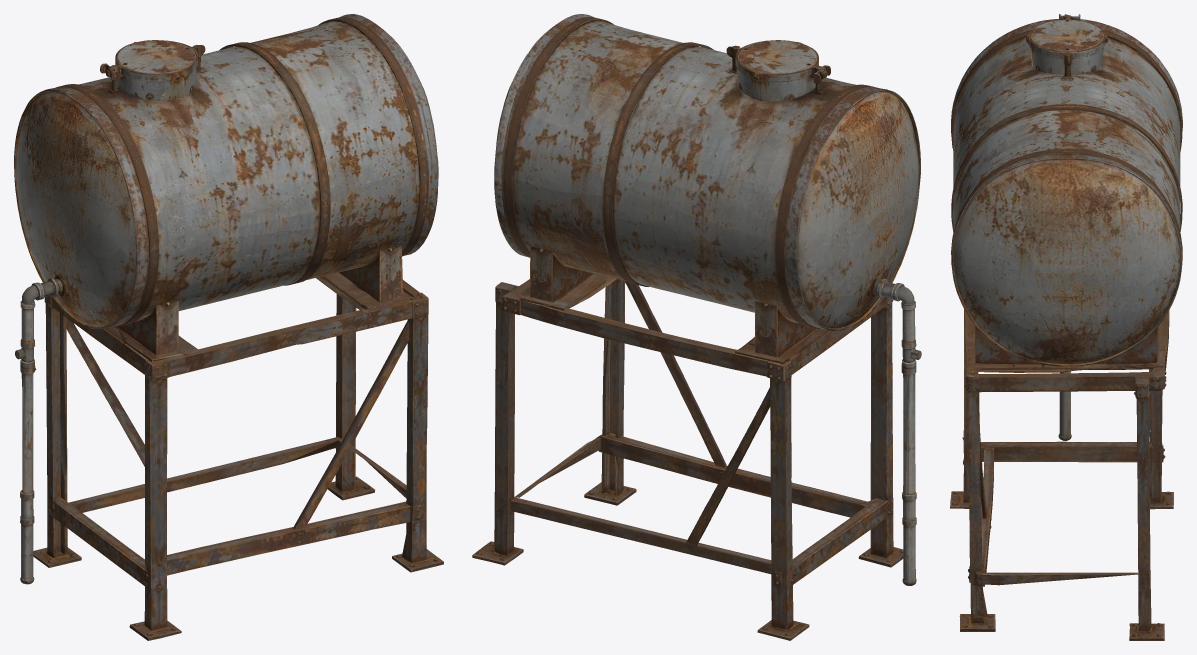
3 views of the same model, side by side, from view 1: azimuth 30°, elevation 25°; view 2: azimuth 150°, elevation 25°; view 3: azimuth 270°, elevation 25° (orthographic). The views are drawn at different scales.
Parts seen in each view (by area): view 1: Mesh_0; view 2: Mesh_0; view 3: Mesh_0.
Part boxes in pixels (x1,y1,x2,y2): Mesh_0: (14,14,443,640); Mesh_0: (472,14,921,640); Mesh_0: (950,14,1182,640).
Bounding box in the file's own units: 1.49 × 1.9 × 0.8161.
Materials: 1 (1 with a texture image).
